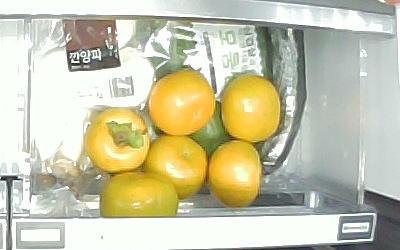persimmon: (146, 68, 215, 136), (82, 108, 151, 174), (220, 74, 282, 140), (148, 134, 208, 200), (208, 141, 263, 207), (100, 173, 178, 217)
